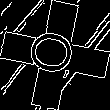O_E: (26, 29, 84, 81)
